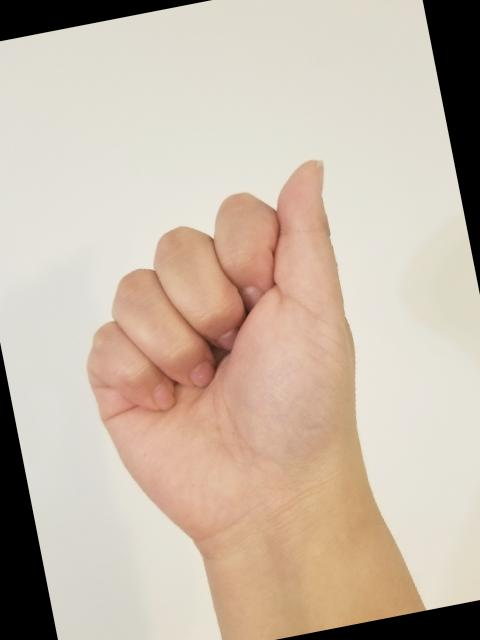A: (39, 142, 408, 586)
